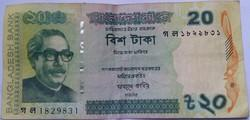20 taka: (4, 4, 249, 118)
